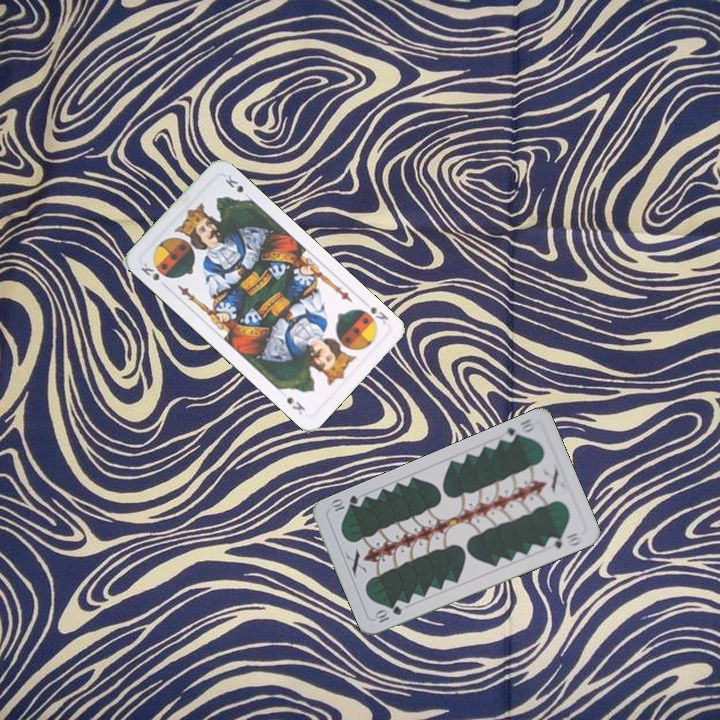G10: (500, 415, 537, 445), (371, 602, 405, 625)
SK: (136, 259, 170, 283), (366, 302, 391, 327)
